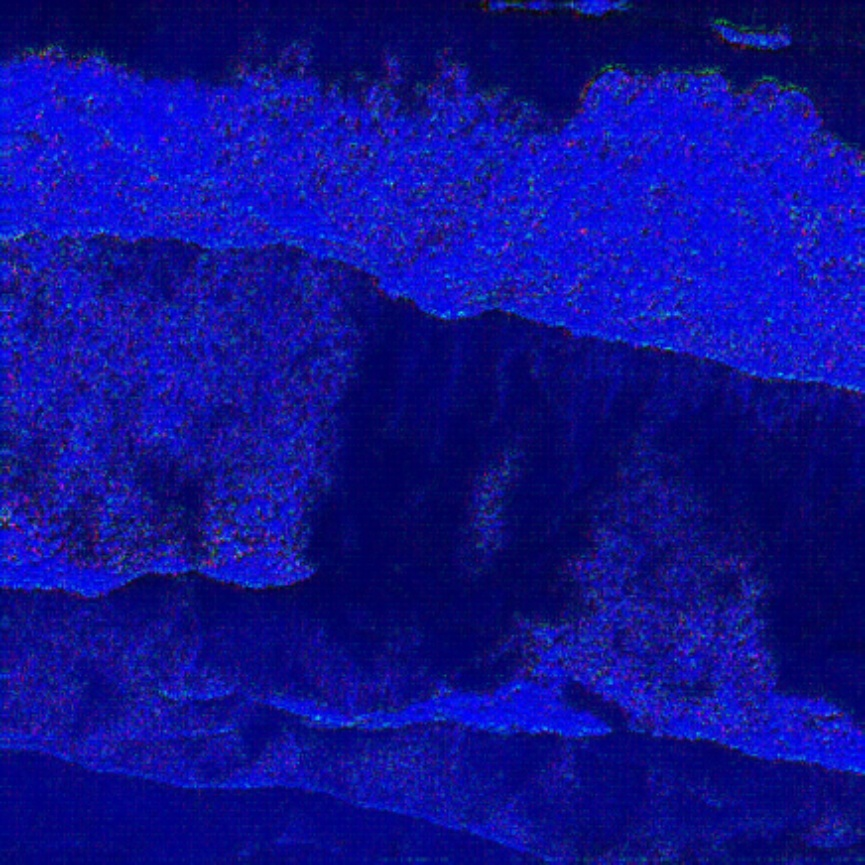rip_current: (252, 179, 659, 701)
